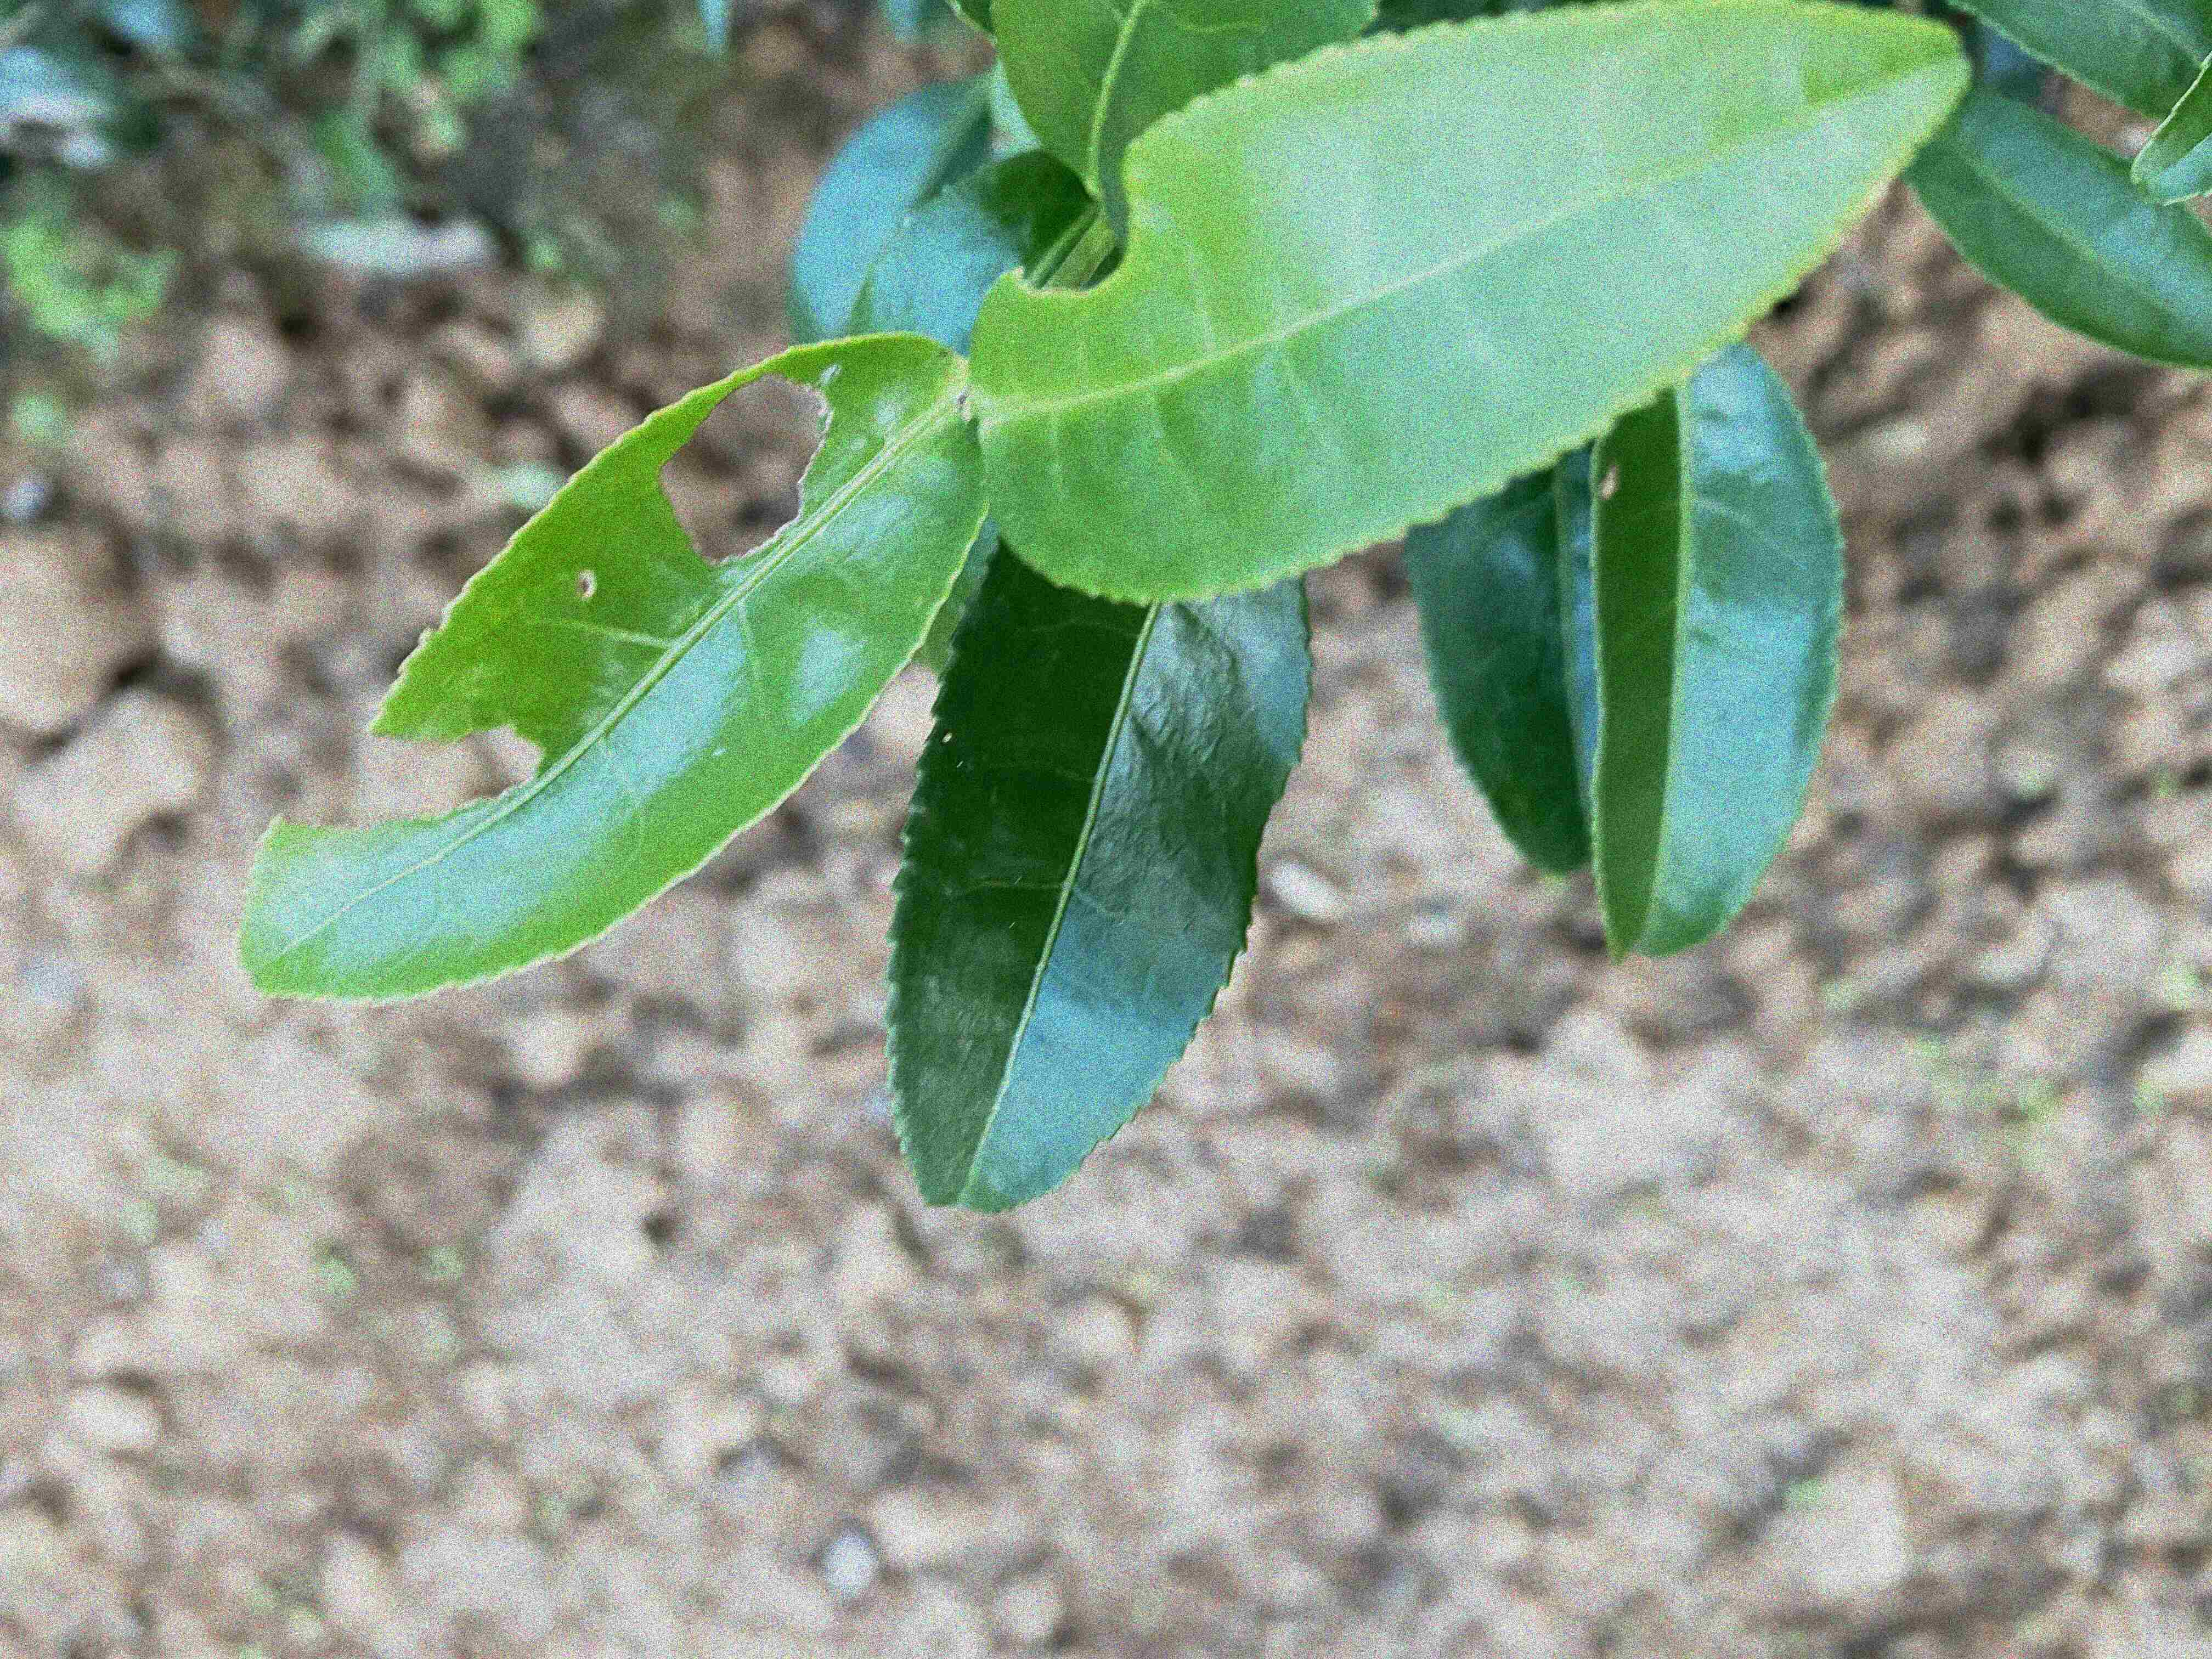chihuo_high: (237, 336, 988, 1009)
chihuo_low: (972, 5, 1972, 608)
healthy: (881, 547, 1315, 1215)
tanju_low: (1583, 349, 1848, 967)
